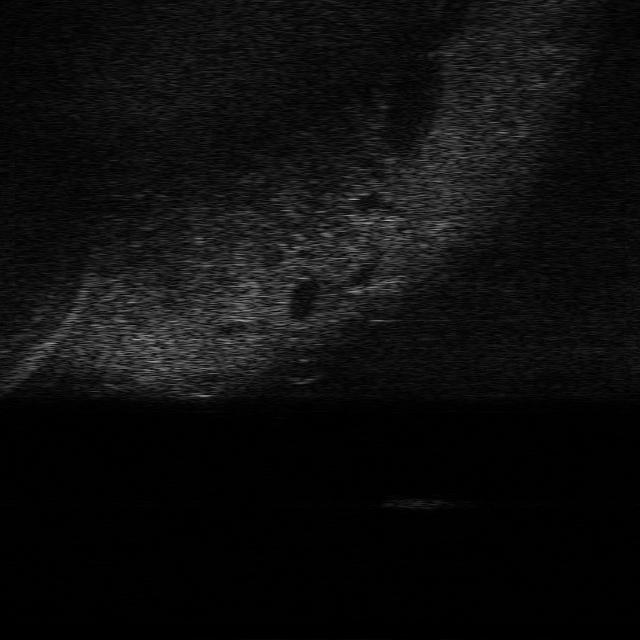ball: (280, 354, 324, 384)
cube: (383, 496, 448, 510)
